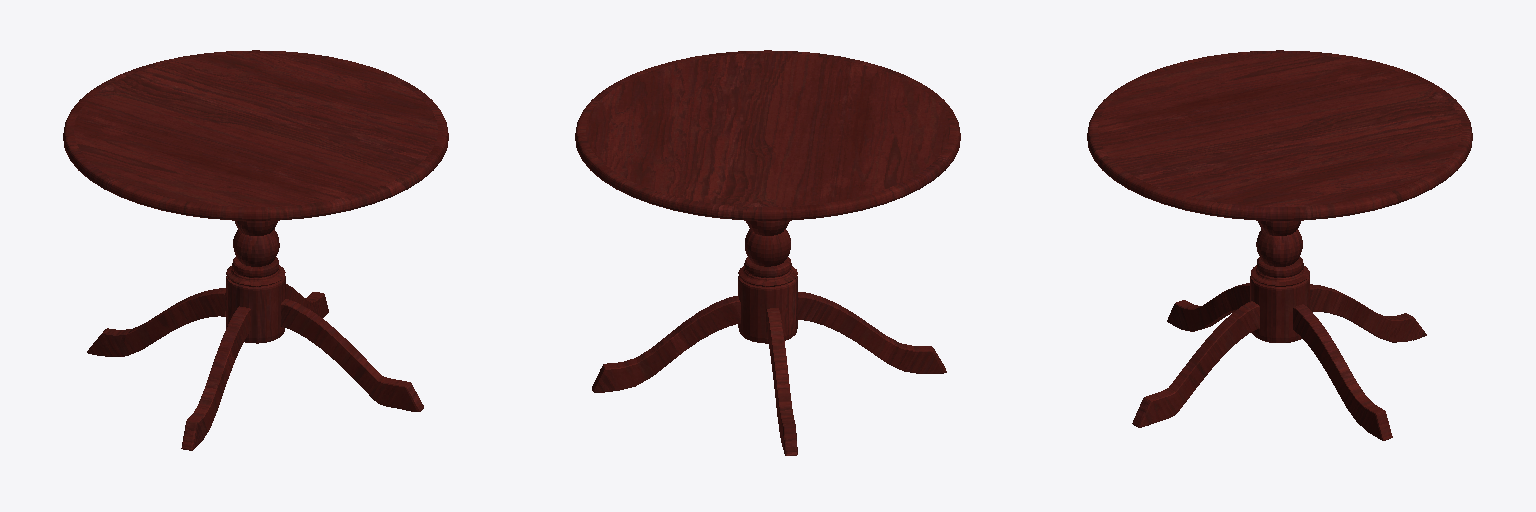
The picture shows the model from 3 angles: view 1: azimuth 30°, elevation 25°; view 2: azimuth 150°, elevation 25°; view 3: azimuth 270°, elevation 25°; orthographic projection.
Visible parts, largest first — view 1: round_wooden_table_01_round_wooden_table_01; view 2: round_wooden_table_01_round_wooden_table_01; view 3: round_wooden_table_01_round_wooden_table_01.
Part boxes in pixels (x1,y1,x2,y2): round_wooden_table_01_round_wooden_table_01: (63, 50, 448, 450); round_wooden_table_01_round_wooden_table_01: (575, 50, 960, 455); round_wooden_table_01_round_wooden_table_01: (1087, 50, 1472, 440).
Bounding box in the file's own units: 630 × 452 × 630.
Materials: 1 (1 with a texture image).